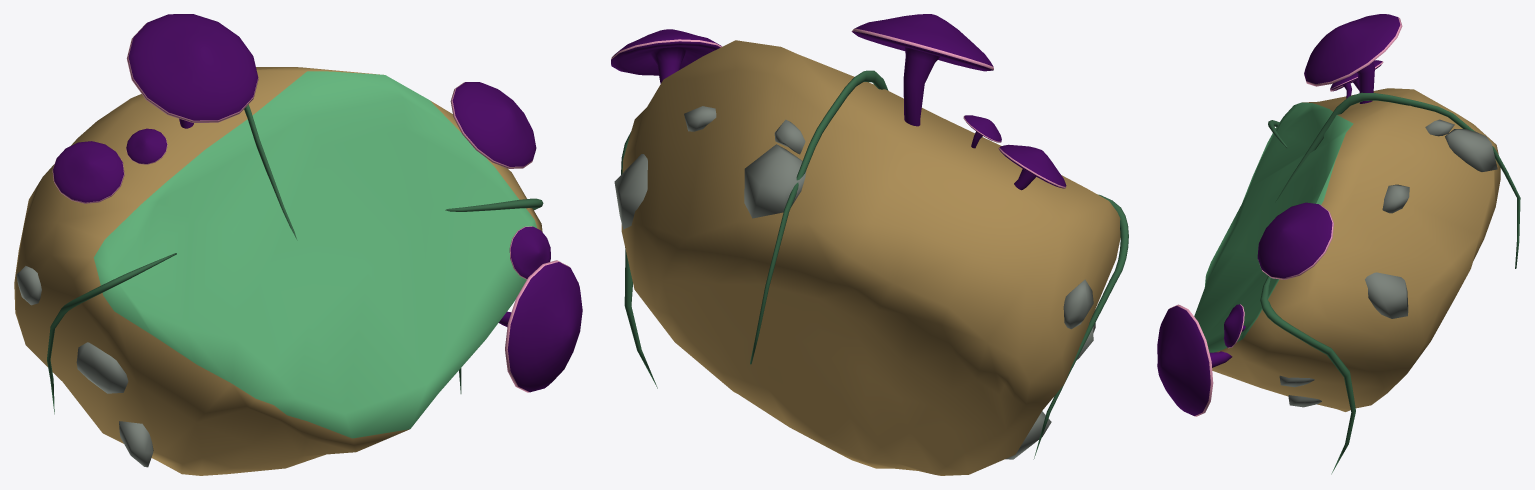
Rendered from tut_rock2.fbx.
3 views of the same model, side by side, from view 1: azimuth 30°, elevation 25°; view 2: azimuth 150°, elevation 25°; view 3: azimuth 270°, elevation 25° (orthographic). The views are drawn at different scales.
Visible parts, largest first — view 1: Cube, Cylinder.003, Cylinder, Cylinder.006, Cylinder.004, Icosphere.001, Cylinder.002, Cylinder.007, Cylinder.005, Icosphere.002, Cylinder.008, Icosphere (+1 smaller); view 2: Cube, Cylinder.003, Cylinder.006, Icosphere.005, Cylinder.010, Cylinder.004, Icosphere.006, Cylinder.007, Icosphere, Cylinder.008, Cylinder.005, Icosphere.004 (+2 smaller); view 3: Cube, Cylinder, Cylinder.003, Cylinder.006, Cylinder.010, Cylinder.008, Icosphere.006, Icosphere.005, Cylinder.002, Icosphere.007.
Part boxes in pixels (x1,y1,x2,y2): Cube: (14, 67, 542, 475); Cylinder.003: (126, 14, 258, 128); Cylinder: (498, 260, 582, 392); Cylinder.006: (450, 82, 536, 168); Cylinder.004: (52, 141, 124, 203); Icosphere.001: (76, 342, 128, 393); Cylinder.002: (509, 226, 550, 279); Cylinder.007: (47, 253, 176, 414); Cylinder.005: (126, 128, 167, 164); Icosphere.002: (119, 421, 153, 467); Cylinder.008: (445, 198, 543, 393); Icosphere: (16, 266, 41, 305); Cube: (621, 40, 1120, 475); Cylinder.003: (851, 14, 993, 126); Cylinder.006: (611, 29, 722, 83); Icosphere.005: (744, 144, 806, 218); Cylinder.010: (750, 70, 888, 364); Cylinder.004: (998, 144, 1066, 190); Icosphere.006: (614, 154, 647, 229); Cylinder.007: (1033, 194, 1128, 459); Icosphere: (1063, 279, 1093, 329); Cylinder.008: (621, 132, 657, 388); Cylinder.005: (963, 115, 1001, 148); Icosphere.004: (774, 119, 805, 154); Cube: (1194, 88, 1500, 411); Cylinder: (1157, 304, 1232, 416); Cylinder.003: (1304, 14, 1402, 103); Cylinder.006: (1257, 202, 1333, 279); Cylinder.010: (1276, 92, 1520, 268); Cylinder.008: (1260, 276, 1355, 474); Icosphere.006: (1365, 272, 1408, 318); Icosphere.005: (1445, 129, 1497, 171); Cylinder.002: (1224, 304, 1245, 348); Icosphere.007: (1382, 184, 1409, 213).
Bounding box in the file's own units: 175 × 155 × 140.
